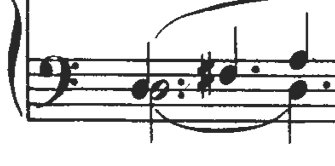bass_clef: (33, 45, 84, 116)
